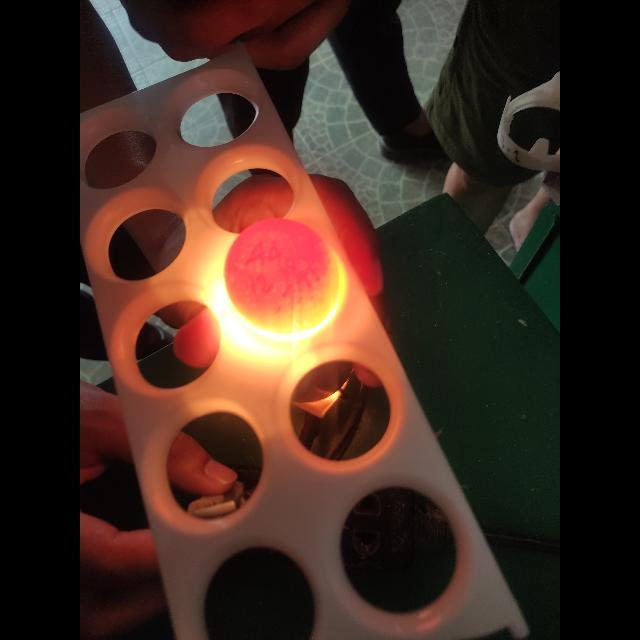Infertile: (222, 216, 334, 328)
